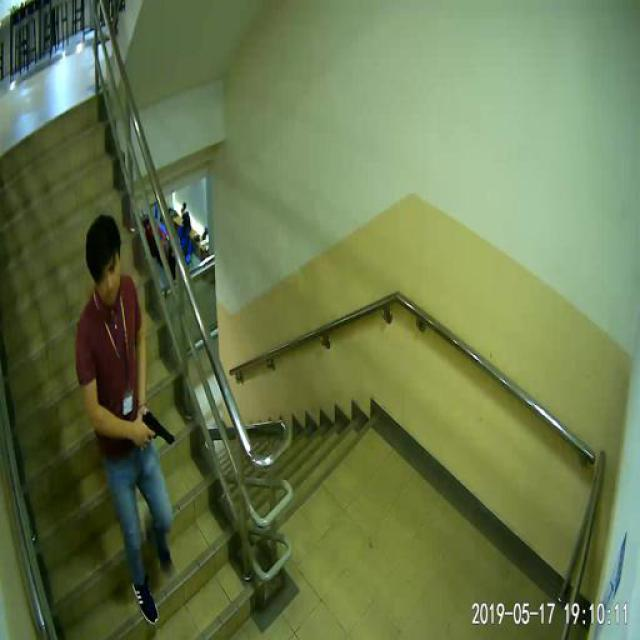Gun: (140, 408, 171, 444)
